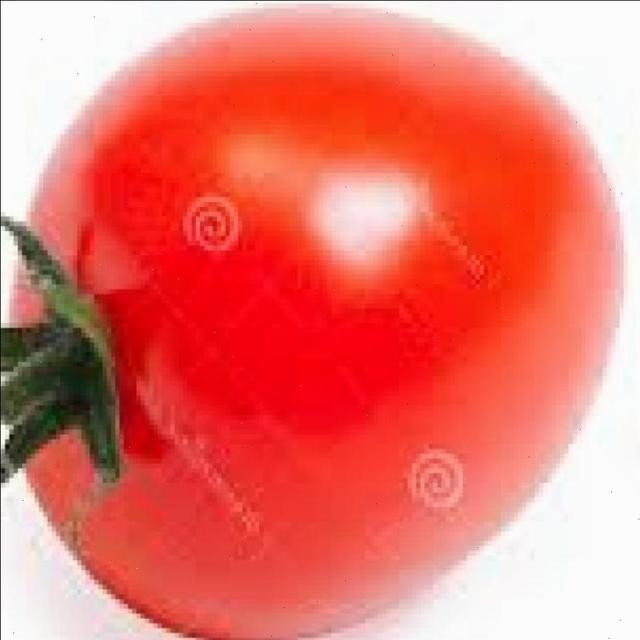Healthy Fruit: (0, 0, 421, 427)
